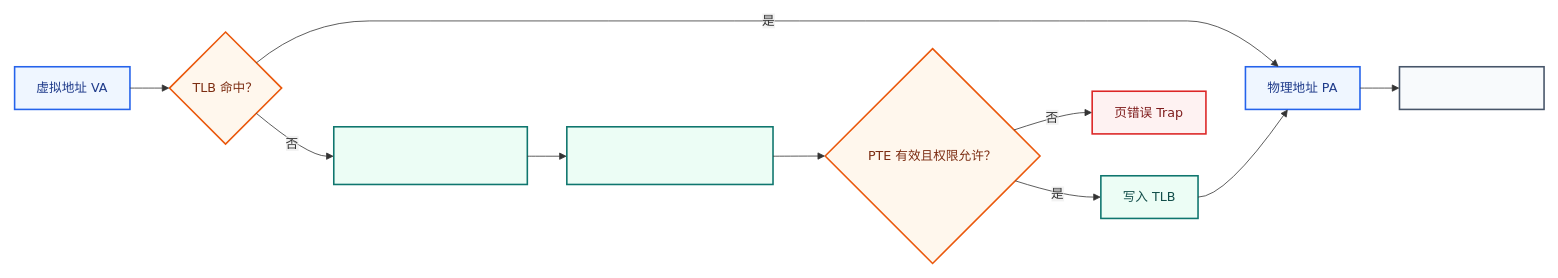
Image size: 1558x278. Some labels were removed from this diagram. The shapes that lost their labels are listed below. From the top down, each one's centre as x and y in pixels, then its label:
point 1471,88: 物理内存与 MMIO
point 430,155: satp MODE、ASID、根页表 PPN
point 669,155: Sv39 三级页表 第 2 级 → 第 1 级 → 第 0 级
